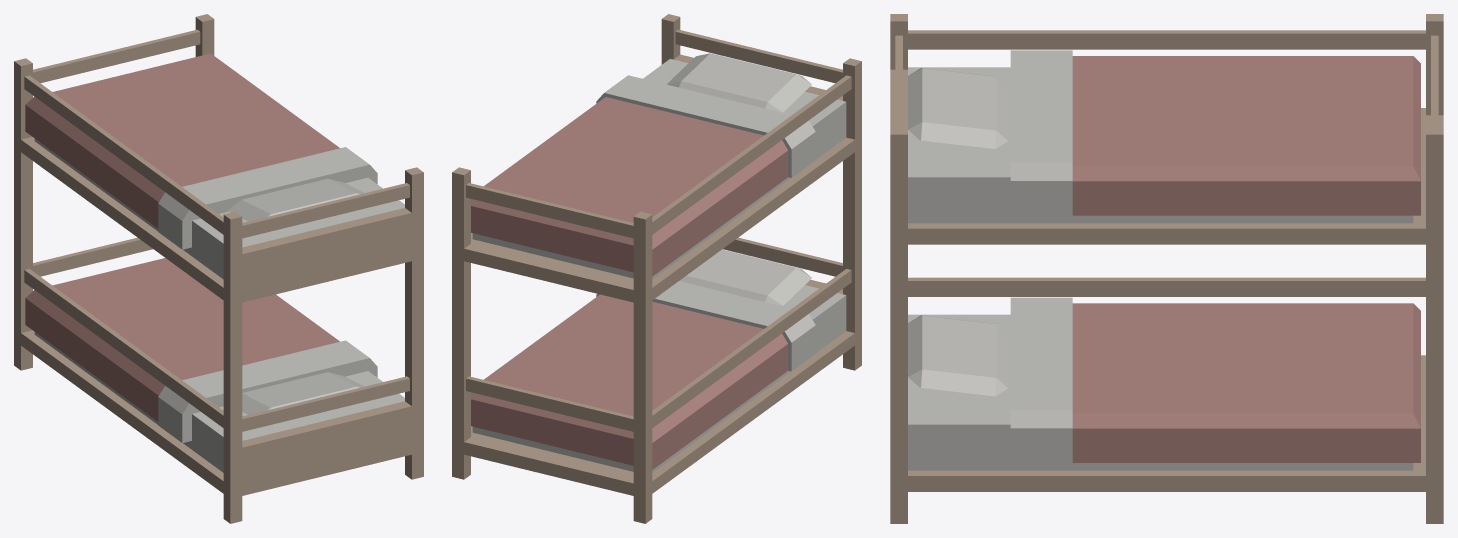
File: bed_bunk.glb
The picture shows the model from 3 angles, left to right: view 1: azimuth 30°, elevation 25°; view 2: azimuth 150°, elevation 25°; view 3: azimuth 270°, elevation 25°; orthographic projection. The views are drawn at different scales.
Parts seen in each view (by area): view 1: bed_bunk; view 2: bed_bunk; view 3: bed_bunk.
Part boxes in pixels (bbox=[...]): bed_bunk: bbox=[14, 14, 423, 523]; bed_bunk: bbox=[452, 14, 861, 523]; bed_bunk: bbox=[890, 14, 1443, 523].
Size of the model in its own units: 1.24 by 1.85 by 2.38.
